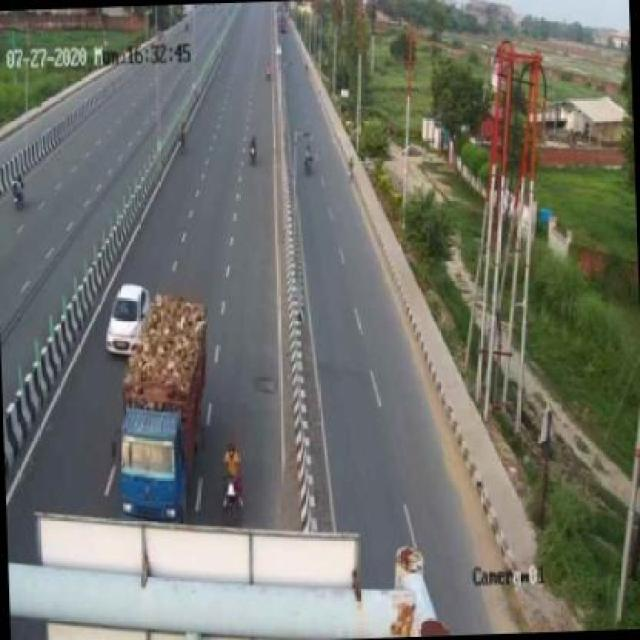car: (103, 282, 154, 356)
